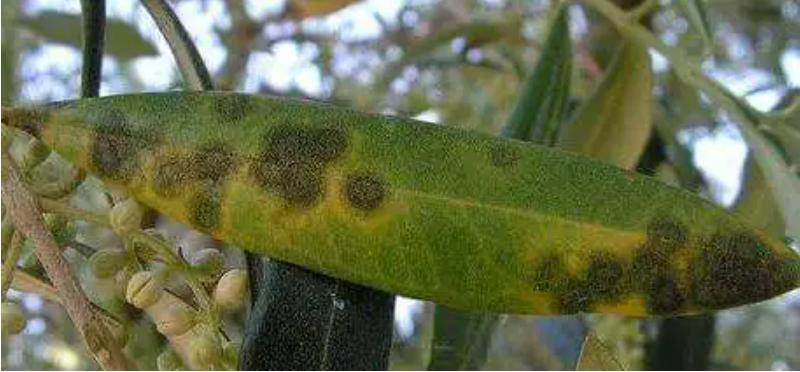OlivePeacockSpot: (4, 90, 798, 316)
